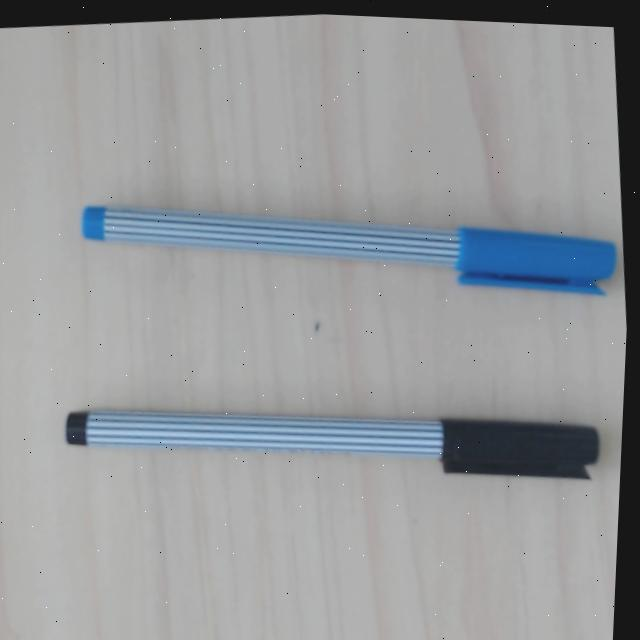Pulpen-Garis-Biru: (79, 198, 618, 294)
Pulpen-Garis-Hitam: (65, 397, 600, 480)
